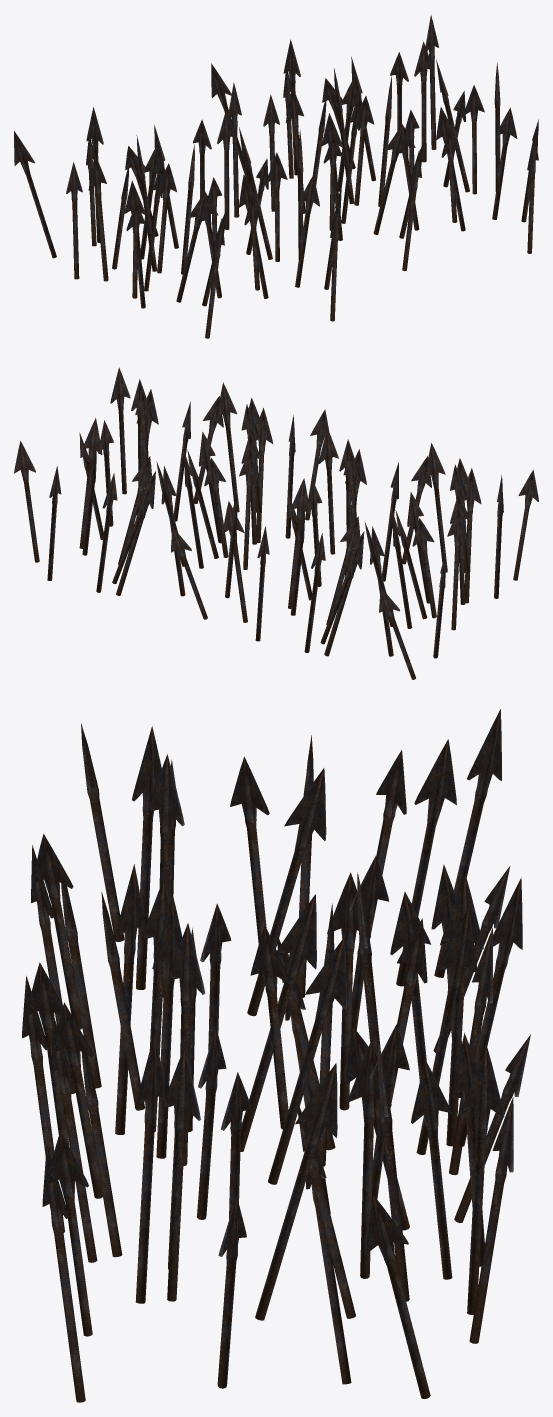
File: Spear1.fbx
The picture shows the model from 3 angles, top to bottom: view 1: azimuth 30°, elevation 25°; view 2: azimuth 150°, elevation 25°; view 3: azimuth 270°, elevation 25°; orthographic projection. The views are drawn at different scales.
Visible parts, largest first — view 1: LV_Nigraturis_Spear_SM_HSH; view 2: LV_Nigraturis_Spear_SM_HSH; view 3: LV_Nigraturis_Spear_SM_HSH.
Boxes of the visible parts, left/top/right/bottom form: LV_Nigraturis_Spear_SM_HSH: left=14, top=15, right=538, bottom=338; LV_Nigraturis_Spear_SM_HSH: left=14, top=367, right=538, bottom=679; LV_Nigraturis_Spear_SM_HSH: left=22, top=709, right=530, bottom=1402.
Bounding box in the file's own units: 1.57 × 0.7415 × 0.7999.
1 material, 1 textured.
